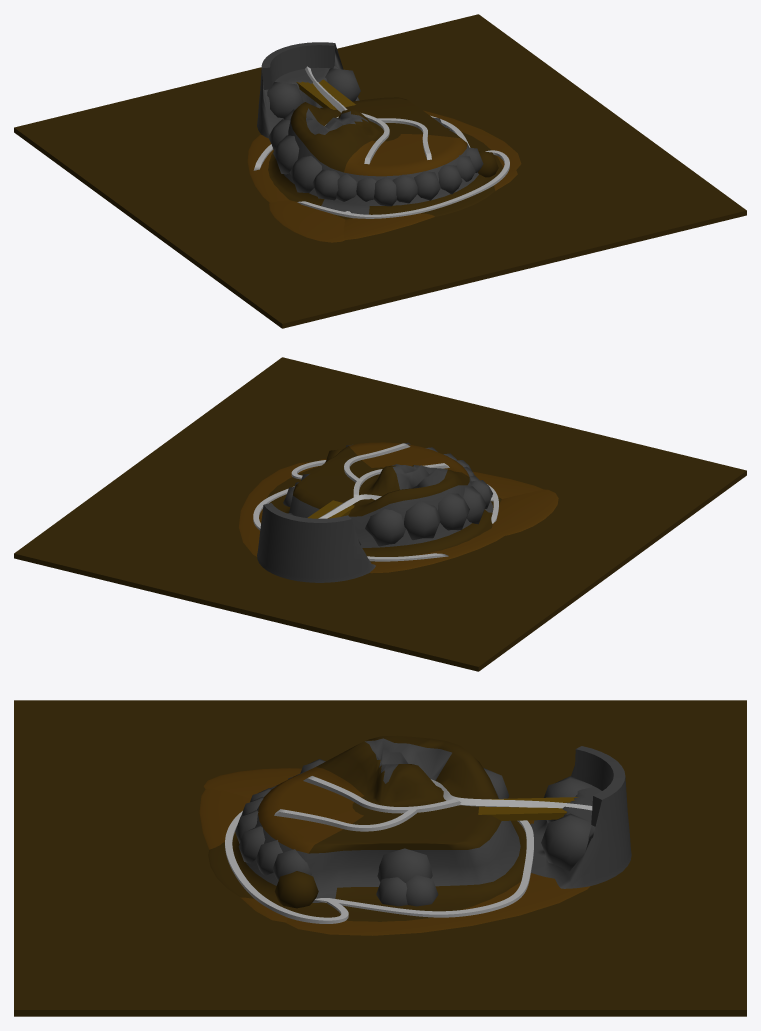
Rendered from Level1.fbx.
The picture shows the model from 3 angles, top to bottom: view 1: azimuth 30°, elevation 25°; view 2: azimuth 150°, elevation 25°; view 3: azimuth 270°, elevation 25°; orthographic projection. The views are drawn at different scales.
Visible parts, largest first — view 1: pCube26, pSphere6, pSphere3, pSphere1, pSphere5, pCube3, pSphere2, pSphere4, pCube25, pCube13, pCube24, pCube1 (+6 smaller); view 2: pCube26, pSphere6, pSphere3, pSphere1, pSphere4, pSphere2, pCube15, pCube16, pCube14, pSphere5, pCube2, pCube13; view 3: pCube26, pSphere6, pSphere3, pSphere4, pSphere5, pCube24, pCube2, pSphere1, pCube3, pCube20, pCube1, pCube23 (+9 smaller).
Part boxes in pixels (x1,y1,x2,y2): pCube26: (14,14,746,328); pSphere6: (268,97,502,219); pSphere3: (257,42,359,138); pSphere1: (269,200,345,242); pSphere5: (343,169,517,239); pCube3: (297,150,509,218); pSphere2: (247,135,289,202); pSphere4: (423,110,521,170); pCube25: (267,82,303,118); pCube13: (289,156,321,192); pCube24: (325,68,360,101); pCube1: (296,79,355,109); pCube26: (14,357,746,671); pSphere6: (267,442,501,562); pSphere3: (257,503,375,582); pSphere1: (492,489,558,535); pSphere4: (239,462,320,556); pSphere2: (370,528,504,573); pCube15: (404,500,440,540); pCube16: (365,509,405,546); pCube14: (438,492,469,530); pSphere5: (318,459,542,498); pCube2: (253,486,448,561); pCube13: (463,486,486,524); pCube26: (14,700,746,1016); pSphere6: (208,735,530,921); pSphere3: (530,746,631,888); pSphere4: (285,873,590,935); pSphere5: (199,788,287,922); pCube24: (541,813,591,871); pCube2: (314,820,533,917); pSphere1: (203,768,301,798); pCube3: (225,811,348,923); pCube20: (377,848,432,882); pCube1: (478,797,578,820); pCube23: (274,871,318,908).
Size of the model in its own units: 100 by 14.19 by 100.
